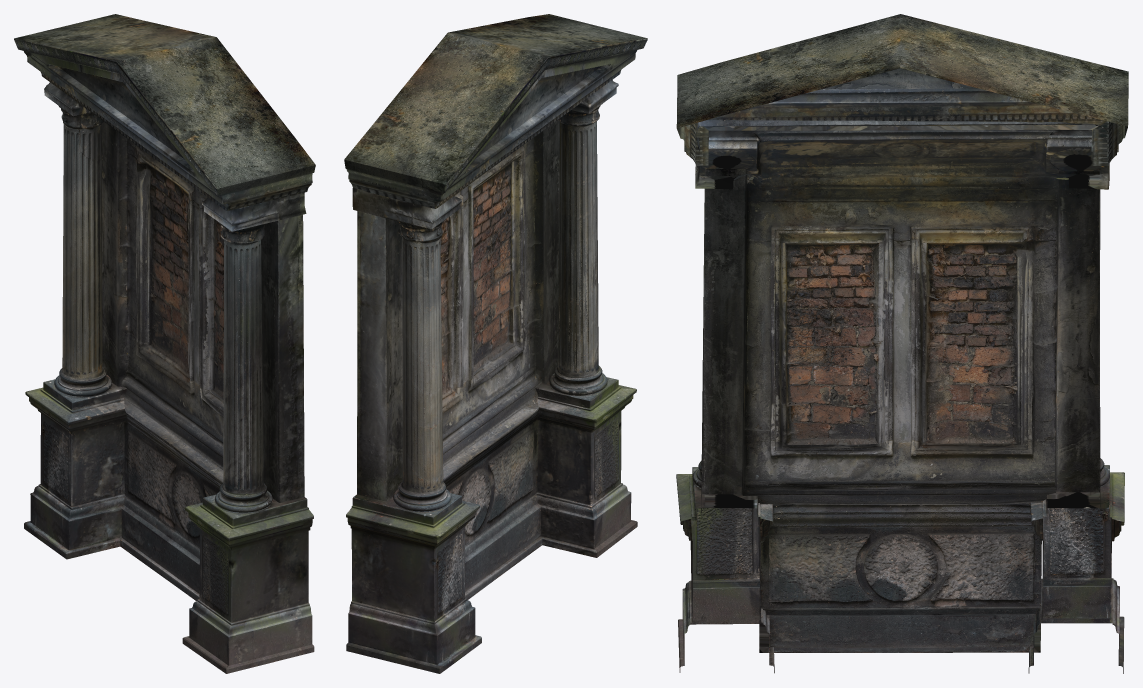
The model's file is sm_GraveStone_01_01.fbx.
3 views of the same model, side by side, from view 1: azimuth 30°, elevation 25°; view 2: azimuth 150°, elevation 25°; view 3: azimuth 270°, elevation 25° (orthographic). The views are drawn at different scales.
Visible parts, largest first — view 1: sm_GraveStone_01_01_LOD0; view 2: sm_GraveStone_01_01_LOD0; view 3: sm_GraveStone_01_01_LOD0.
Boxes of the visible parts, <box> form: sm_GraveStone_01_01_LOD0: <box>14,14,315,673</box>; sm_GraveStone_01_01_LOD0: <box>344,14,647,673</box>; sm_GraveStone_01_01_LOD0: <box>676,14,1128,673</box>.
Size of the model in its own units: 69.86 by 241 by 356.
